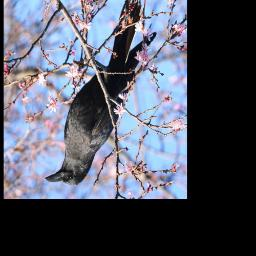Crow: (44, 1, 157, 187)
